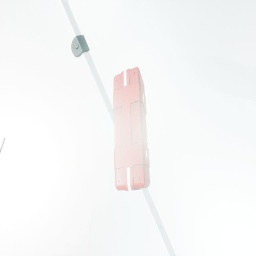FirstAidBox ,: (113, 67, 150, 191)
